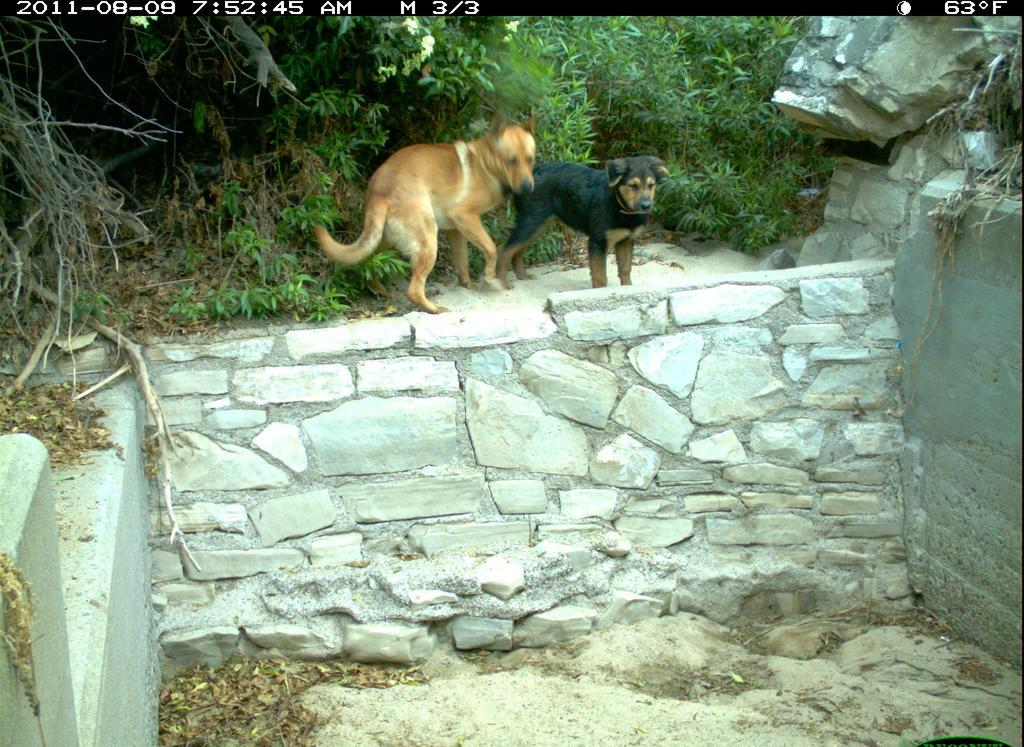dog: (297, 104, 545, 328), (504, 139, 674, 304)
